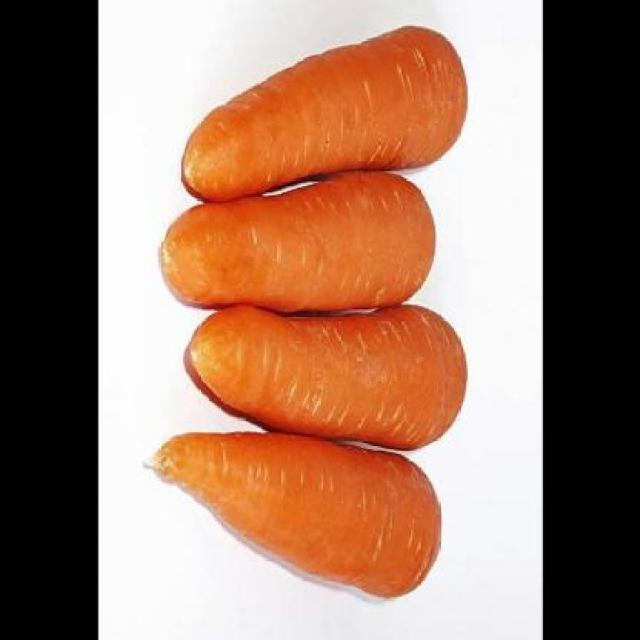carrot: (181, 26, 467, 203), (152, 429, 440, 600), (188, 305, 467, 450), (158, 172, 436, 312)
